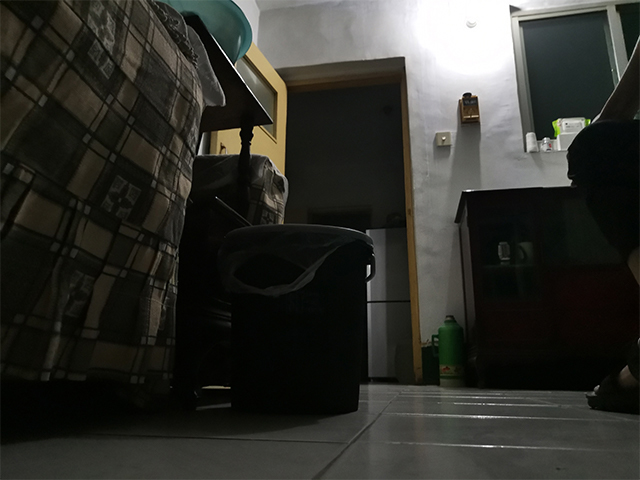cabinet: (451, 183, 639, 391)
trashcan: (213, 221, 377, 417)
